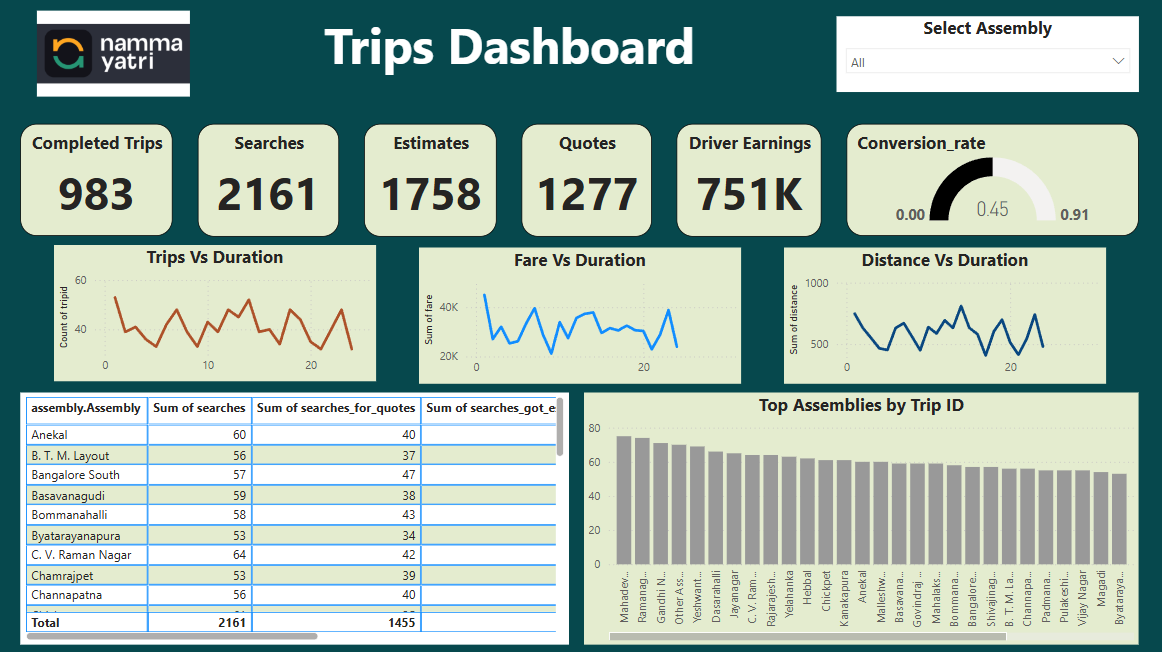

The page's visual inventory and layout, read from the dashboard file:
{"tool":"powerbi","page":{"name":"Page 1","canvas":[1280,720],"ordinal":0},"visuals":[{"type":"card","title":"Completed Trips","fields":{"Values":["Sum(trip_details.end_ride)"]},"box":[23.5,135.6,167.5,123.2],"z":0},{"type":"card","title":"Searches","fields":{"Values":["Sum(trip_details.searches)"]},"box":[218.1,135.5,155.4,123.8],"z":1000},{"type":"card","title":"Estimates","fields":{"Values":["Sum(trip_details.searches_got_estimate)"]},"box":[400.6,135.5,145.8,123.8],"z":2000},{"type":"card","title":"Quotes","fields":{"Values":["Sum(trip_details.searches_got_quotes)"]},"box":[573.4,135.5,143,123.8],"z":3000},{"type":"card","title":"Driver Earnings","fields":{"Values":["Sum(trips.fare)"]},"box":[743.5,135.5,159.5,123.8],"z":4000},{"type":"gauge","fields":{"Y":["trip_details.Conversion_rate"]},"box":[930.1,135.6,321.1,123.2],"z":5000},{"type":"lineChart","title":"Trips Vs Duration","fields":{"Category":["trips.duration"],"Y":["CountNonNull(trips.tripid)"]},"box":[61,269.6,353.4,149.9],"z":6000},{"type":"lineChart","title":"Fare Vs Duration","fields":{"Category":["trips.duration"],"Y":["Sum(trips.fare)"]},"box":[461.2,271,353.4,149.9],"z":7000},{"type":"lineChart","title":"Distance Vs Duration","fields":{"Category":["trips.duration"],"Y":["Sum(trips.distance)"]},"box":[861.4,271,353.4,149.9],"z":8000},{"type":"tableEx","fields":{"Values":["Merge2.assembly.Assembly","Sum(Merge2.searches)","Sum(Merge2.searches_for_quotes)","Sum(Merge2.searches_got_estimate)","Sum(Merge2.searches_got_quotes)","Sum(Merge2.trips.fare)","trip_details.Conversion_rate"]},"box":[23,430.5,602.1,276.8],"z":9000},{"type":"clusteredColumnChart","title":"Top Assemblies by Trip ID","fields":{"Category":["Merge2.assembly.Assembly"],"Y":["CountNonNull(Merge2.tripid)"]},"box":[641.7,430.5,609,276.8],"z":10000},{"type":"textbox","box":[258.8,8.3,602.1,103.8],"z":11000},{"type":"slicer","title":"Select Assembly","fields":{"Values":["Merge2.assembly.Assembly"]},"box":[919,18,332.2,83],"z":12000},{"type":"image","box":[0,6.9,251.9,103.8],"z":13000}]}

Visuals, with their boxes in screenshot pixels (x1, y1, x2, y2), scaled from the page's 1280x720 canvas onto the 1162x652 screenshot:
"Completed Trips" card: [left=21, top=123, right=173, bottom=234]
"Searches" card: [left=198, top=123, right=339, bottom=235]
"Estimates" card: [left=364, top=123, right=496, bottom=235]
"Quotes" card: [left=521, top=123, right=650, bottom=235]
"Driver Earnings" card: [left=675, top=123, right=820, bottom=235]
gauge - trip_details.Conversion_rate: [left=844, top=123, right=1136, bottom=234]
"Trips Vs Duration" lineChart: [left=55, top=244, right=376, bottom=380]
"Fare Vs Duration" lineChart: [left=419, top=245, right=740, bottom=381]
"Distance Vs Duration" lineChart: [left=782, top=245, right=1103, bottom=381]
tableEx - Merge2.assembly.Assembly x Sum(Merge2.searches): [left=21, top=390, right=567, bottom=640]
"Top Assemblies by Trip ID" clusteredColumnChart: [left=583, top=390, right=1135, bottom=640]
textbox: [left=235, top=8, right=782, bottom=102]
"Select Assembly" slicer: [left=834, top=16, right=1136, bottom=91]
image: [left=0, top=6, right=229, bottom=100]
